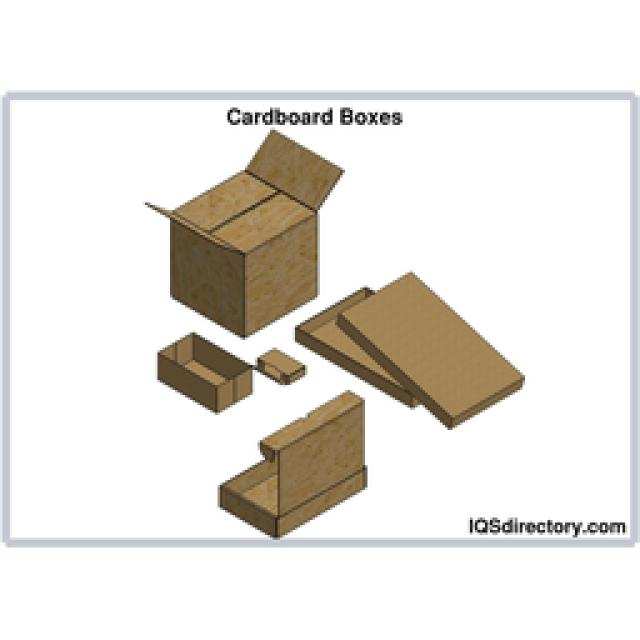cardboard: (145, 130, 340, 339), (295, 272, 522, 425), (220, 392, 362, 535), (158, 332, 306, 411)
